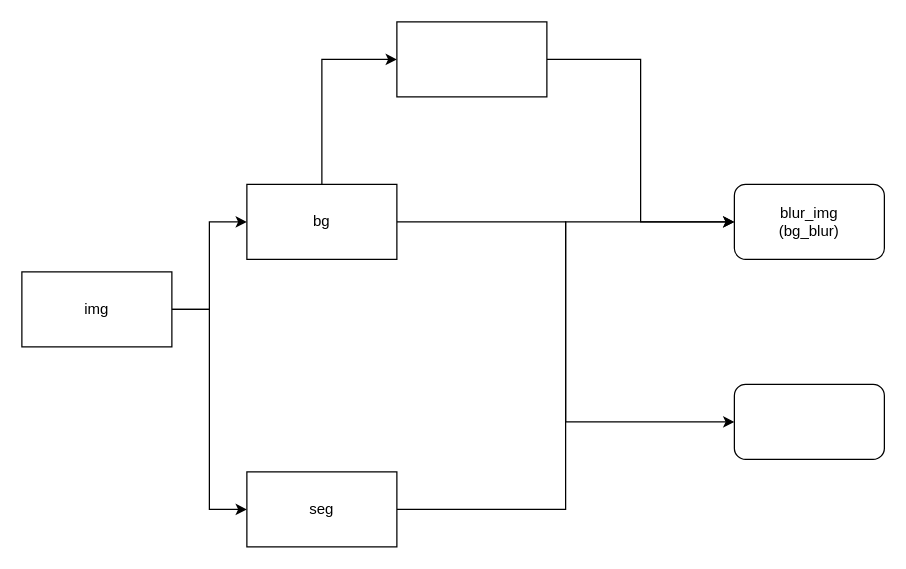
The diagram is 906 pixels wide and 569 high, and some of its shapes have lost their labels. Here are the shapes that lost their labels. From the top down, the centre of each, then its label:
point 471,59: blur
point 808,421: blur_img (seg_blur)
